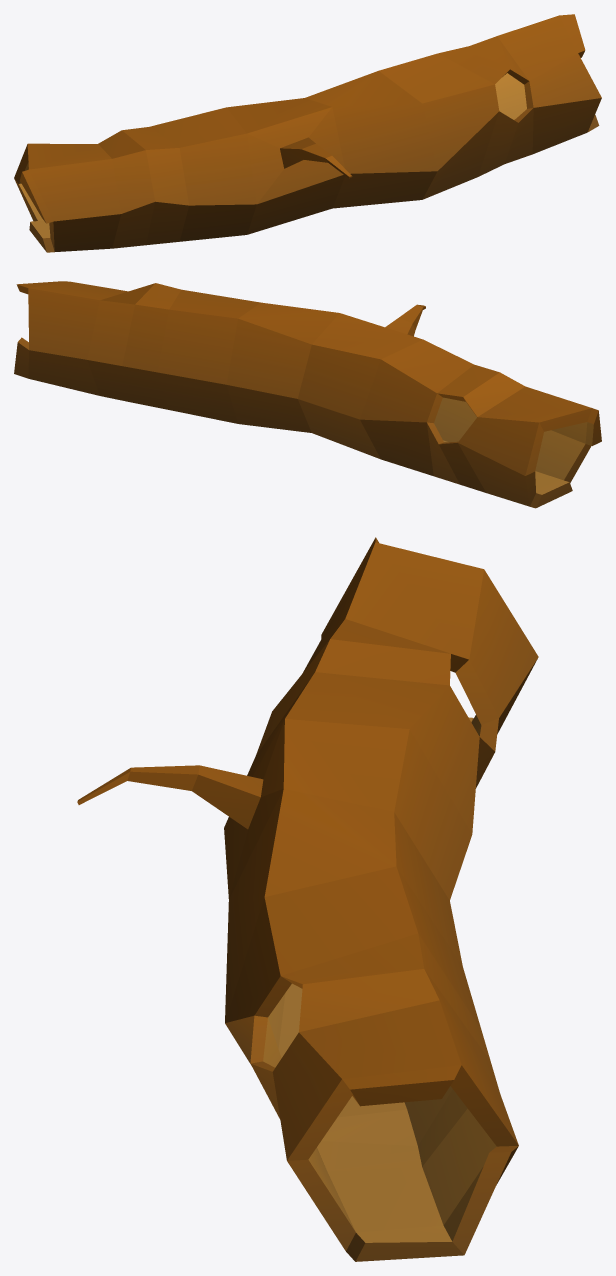
File: Log_2.fbx
The picture shows the model from 3 angles, top to bottom: view 1: azimuth 30°, elevation 25°; view 2: azimuth 150°, elevation 25°; view 3: azimuth 270°, elevation 25°; orthographic projection. The views are drawn at different scales.
Visible parts, largest first — view 1: Log_2; view 2: Log_2; view 3: Log_2.
Part boxes in pixels (x1=…): Log_2: x1=14, y1=14, x2=601, y2=252; Log_2: x1=14, y1=281, x2=601, y2=508; Log_2: x1=77, y1=537, x2=538, y2=1261.
Bounding box in the file's own units: 696 × 128 × 247.
